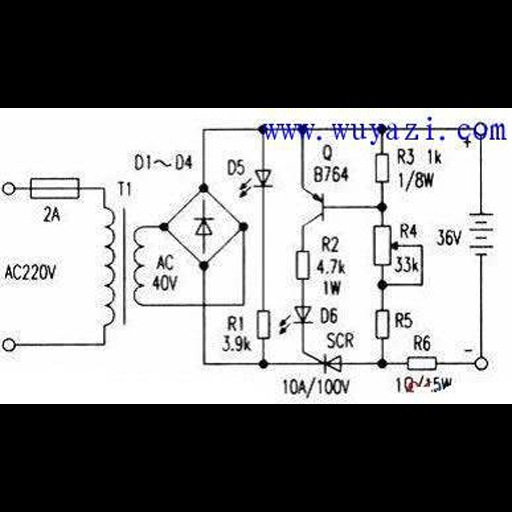battery: (468, 205, 495, 262)
firstresistance: (403, 353, 445, 374), (291, 247, 314, 284), (371, 306, 393, 344), (371, 150, 392, 188), (253, 306, 272, 343)
fuse: (23, 174, 84, 203)
secondled: (276, 303, 315, 337), (239, 169, 276, 201)
transformer: (97, 201, 146, 333)
